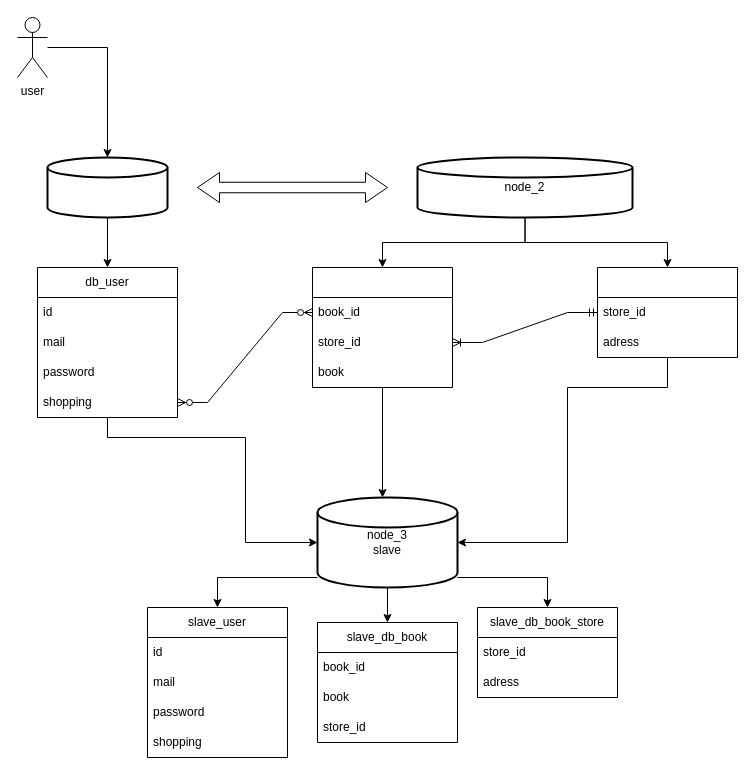
The diagram is 755 pixels wide and 775 high, and some of its shapes have lost their labels. The box of each missing label's shape, as (x1, y1, x2, y2) in pixels:
db_book: (312, 266, 452, 388)
db_book_store: (596, 266, 738, 358)
node_1: (46, 156, 168, 218)
